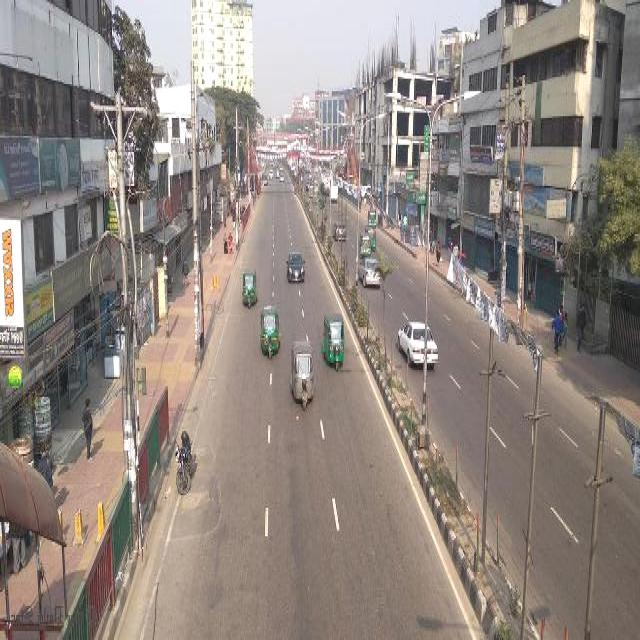white: (396, 321, 442, 366), (358, 258, 383, 286)
